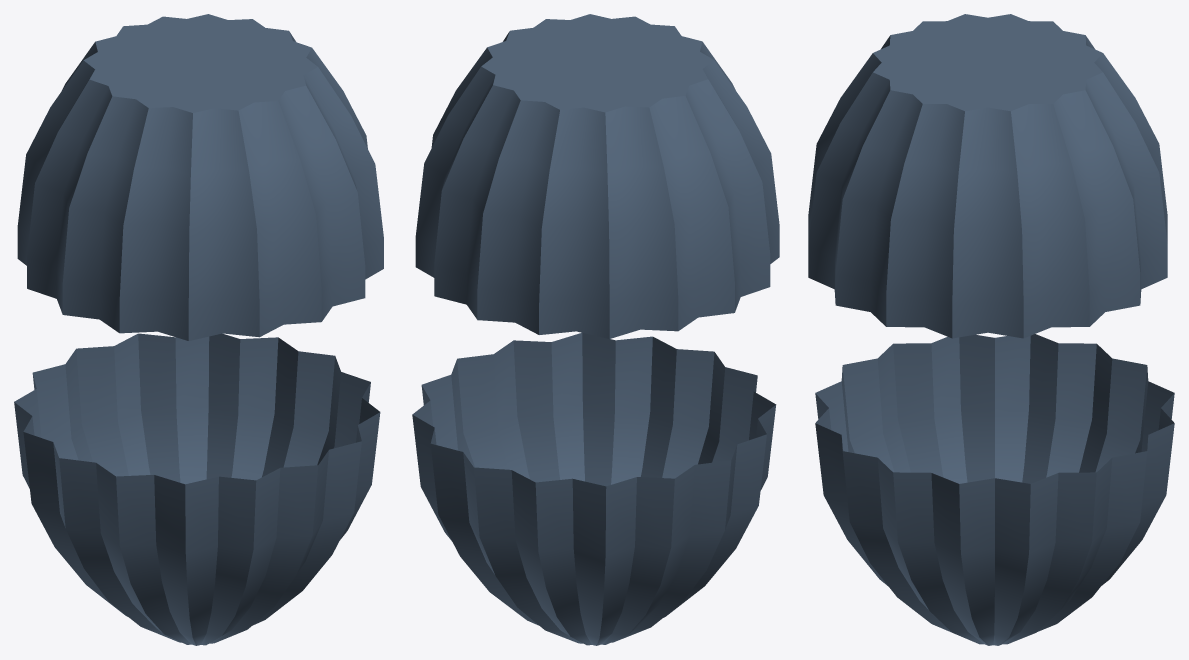
Rendered from arena_juicer.glb.
The picture shows the model from 3 angles, left to right: view 1: azimuth 30°, elevation 25°; view 2: azimuth 150°, elevation 25°; view 3: azimuth 270°, elevation 25°; orthographic projection.
Visible parts, largest first — view 1: Cylinder.054; view 2: Cylinder.054; view 3: Cylinder.054.
Boxes of the visible parts, x1,y1,x2,y2 form: Cylinder.054: [14, 14, 383, 645]; Cylinder.054: [412, 14, 779, 645]; Cylinder.054: [808, 14, 1174, 645].
Bounding box in the file's own units: 33.89 × 59.6 × 34.55.
